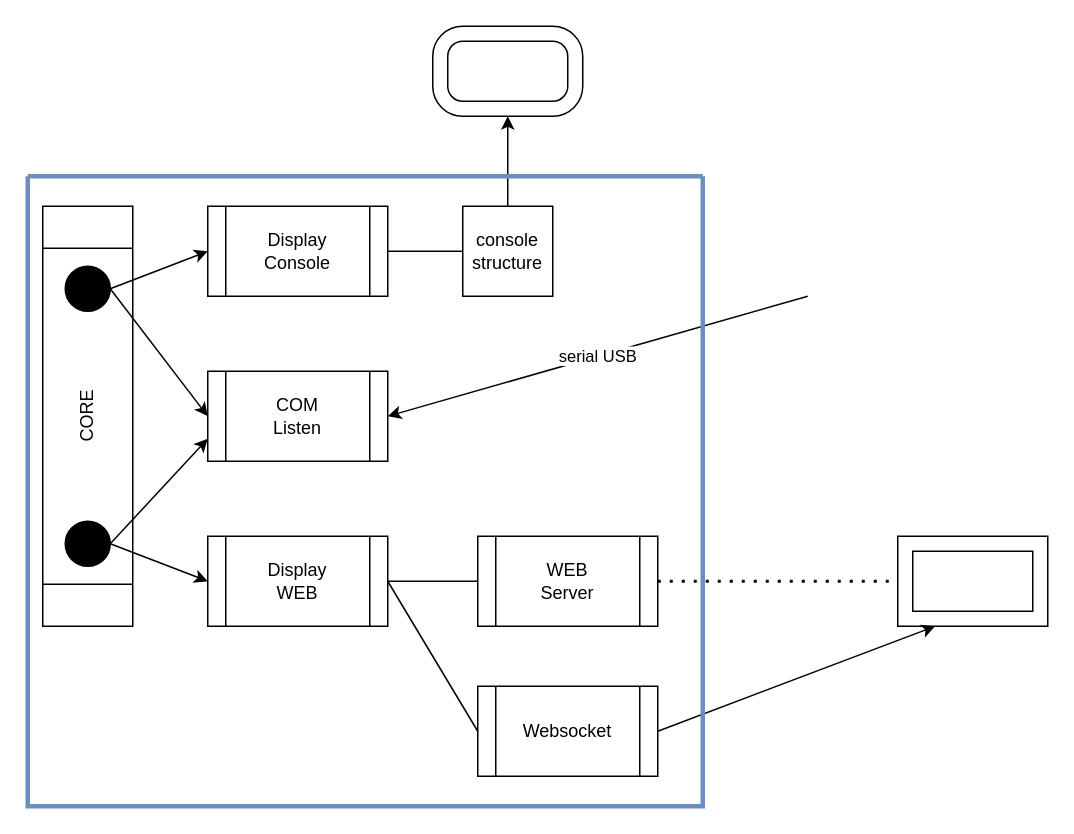
The diagram is 1074 pixels wide and 834 high, and some of its shapes have lost their labels. The shapes that lost their labels are listed below. From the top down, each one's centre as x and y in pixels, then its label:
At (x=507, y=70): "Console".
At (x=972, y=580): "HTML Javascript".
